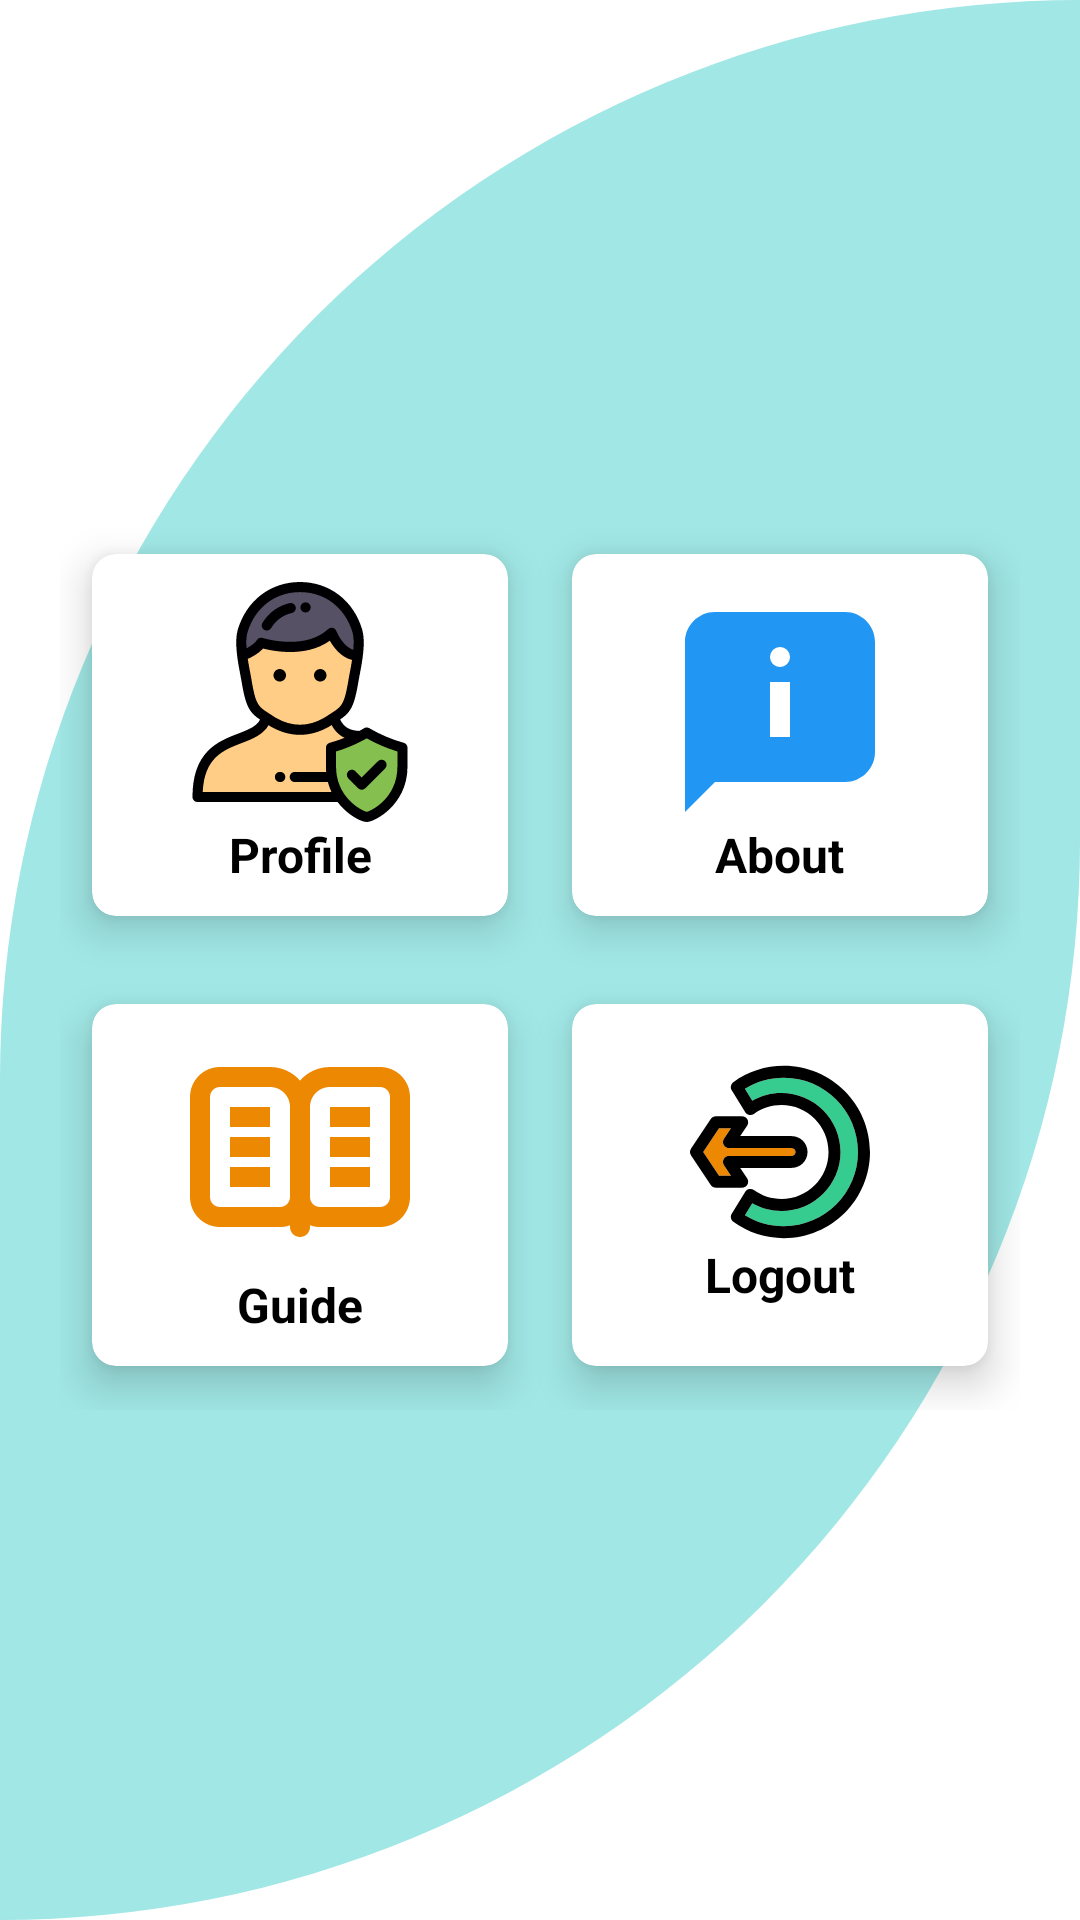

Point at icon controls on the screen. Image size 1080px×1920px, points as (x=x, y=y).
readme: (x=300, y=1152)
